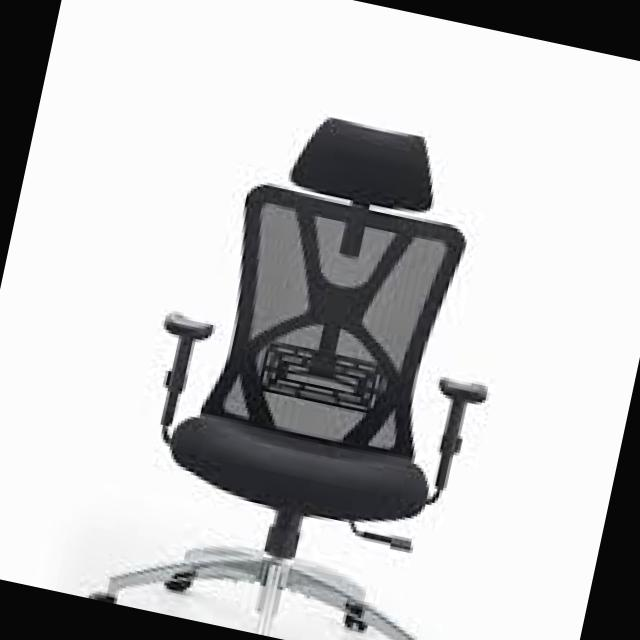obstacle: (43, 35, 592, 640)
